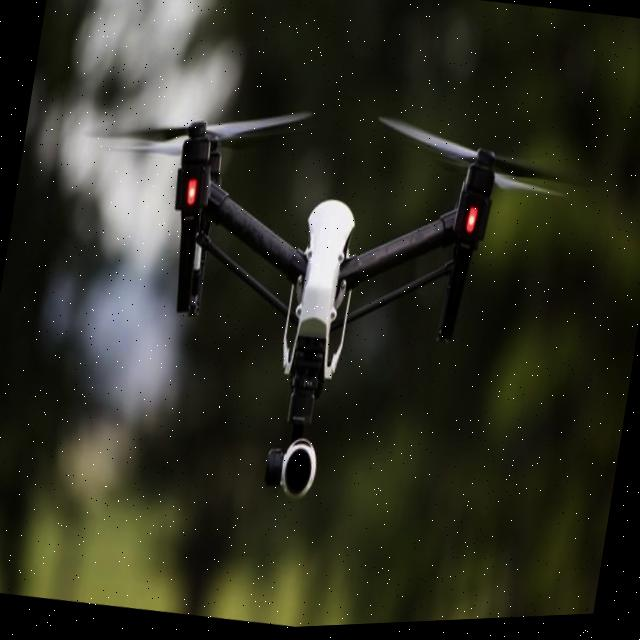drone: (24, 47, 608, 571)
